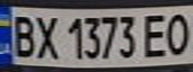1: (63, 12, 84, 60)
3: (115, 11, 142, 61), (81, 12, 103, 60)
7: (100, 12, 121, 60)
B: (6, 11, 39, 58)
E: (139, 10, 172, 60)
O: (160, 9, 193, 57)
X: (30, 12, 60, 61)
